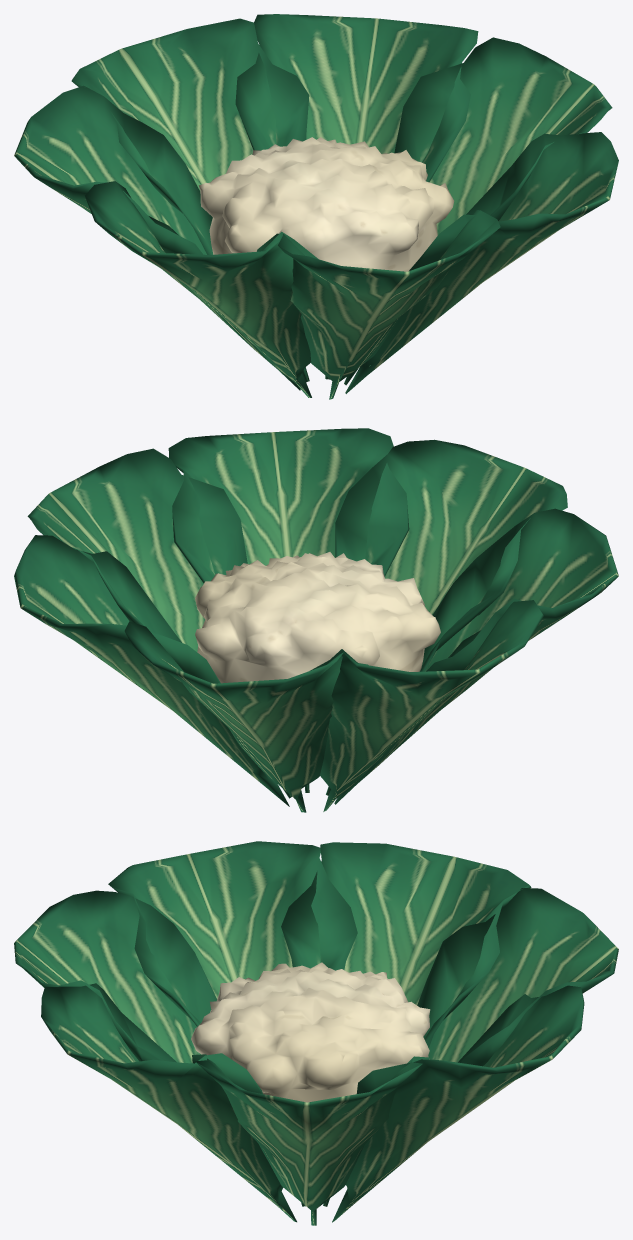
File: NP_Cauliflower_HeadForming_LOD1.fbx
3 views of the same model, one above another, from view 1: azimuth 30°, elevation 25°; view 2: azimuth 150°, elevation 25°; view 3: azimuth 270°, elevation 25° (orthographic).
Parts seen in each view (by area): view 1: NP_Cauliflower_HeadForming; view 2: NP_Cauliflower_HeadForming; view 3: NP_Cauliflower_HeadForming.
Boxes of the visible parts, x1,y1,x2,y2 form: NP_Cauliflower_HeadForming: (14,14,618,399); NP_Cauliflower_HeadForming: (14,428,618,812); NP_Cauliflower_HeadForming: (14,841,618,1225).
Bounding box in the file's own units: 64.13 × 30.56 × 64.14.
